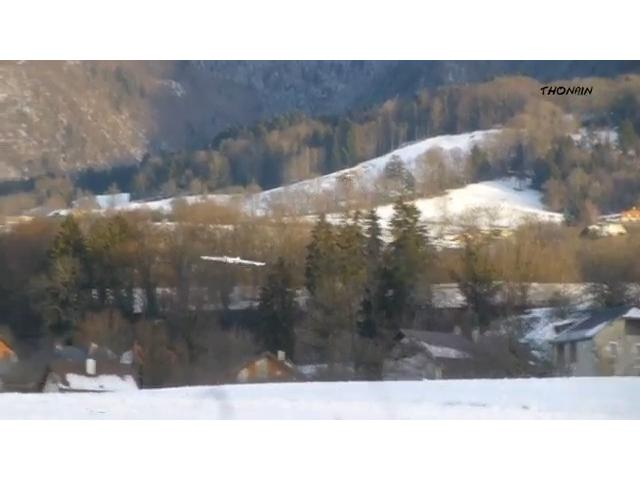Anti-Drone: (202, 256, 264, 266)
